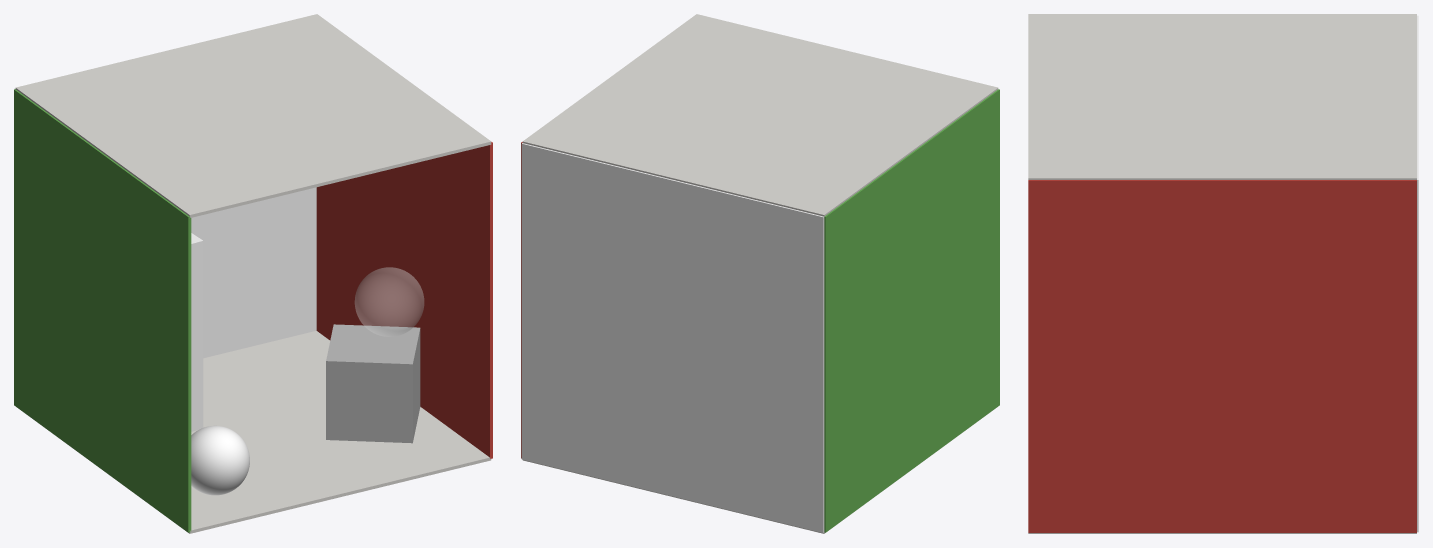
The model's file is cornellBox.gltf.
3 renders of one model, left to right at view 1: azimuth 30°, elevation 25°; view 2: azimuth 150°, elevation 25°; view 3: azimuth 270°, elevation 25°, orthographic. The views are drawn at different scales.
Parts seen in each view (by area): view 1: cube_instance_5, cube_instance_3, cube_instance_6, cube_instance_2, cube_instance, cube_instance_14, sphere_instance, sphere_instance_22, cube_instance_16; view 2: cube_instance, cube_instance_5, cube_instance_3; view 3: cube_instance_6, cube_instance_3, cube_instance.
Boxes of the visible parts, x1=… form: cube_instance_5: x1=14, y1=89, x2=191, y2=532; cube_instance_3: x1=15, y1=14, x2=491, y2=217; cube_instance_6: x1=316, y1=142, x2=492, y2=458; cube_instance_2: x1=21, y1=331, x2=491, y2=533; cube_instance: x1=15, y1=88, x2=316, y2=358; cube_instance_14: x1=326, y1=324, x2=420, y2=443; sphere_instance: x1=355, y1=267, x2=423, y2=336; sphere_instance_22: x1=191, y1=425, x2=249, y2=495; cube_instance_16: x1=191, y1=233, x2=203, y2=431; cube_instance: x1=521, y1=143, x2=824, y2=532; cube_instance_5: x1=824, y1=89, x2=999, y2=532; cube_instance_3: x1=522, y1=14, x2=998, y2=216; cube_instance_6: x1=1028, y1=180, x2=1416, y2=532; cube_instance_3: x1=1028, y1=14, x2=1416, y2=179; cube_instance: x1=1417, y1=15, x2=1418, y2=532.
Bounding box in the file's own units: 10.1 × 10.1 × 10.05.
